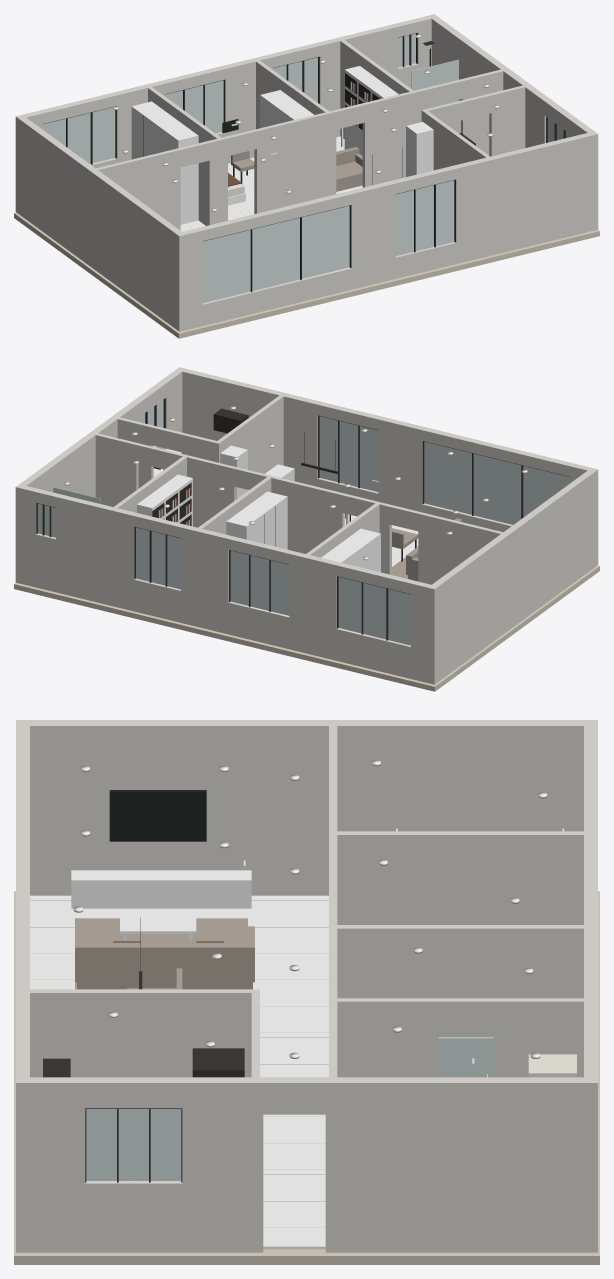
File: qimu-home.glb
The picture shows the model from 3 angles, top to bottom: view 1: azimuth 30°, elevation 25°; view 2: azimuth 150°, elevation 25°; view 3: azimuth 270°, elevation 25°; orthographic projection. The views are drawn at different scales.
Visible parts, largest first — view 1: W03, W01.006, WIN01 glazing, W05.004, foundation, W05.006, W01.003, J01, W05, WIN02 glazing, W01.001, W02.009 (+37 smaller); view 2: W03, W02.009, WIN01 glazing, W01.006, W02.006, W02.003, foundation, W01.003, WIN03 glazing, W05.004, WIN02 glazing, W05 (+40 smaller); view 3: W03, W04.005, W06, R07 floor, W07, W09, W08, W04.003, W04, foundation, W04.001, J05 (+19 smaller).
Boxes of the visible parts, bbox=[...] form: W03: bbox=[19, 117, 181, 328]; W01.006: bbox=[453, 131, 598, 263]; WIN01 glazing: bbox=[203, 206, 349, 302]; W05.004: bbox=[254, 110, 336, 213]; foundation: bbox=[14, 212, 599, 338]; W05.006: bbox=[362, 86, 435, 187]; W01.003: bbox=[348, 180, 395, 289]; J01: bbox=[131, 101, 198, 224]; W05: bbox=[96, 148, 180, 230]; WIN02 glazing: bbox=[395, 180, 454, 255]; W01.001: bbox=[203, 268, 351, 325]; W02.009: bbox=[316, 24, 397, 137]; W03: bbox=[432, 470, 594, 681]; W02.009: bbox=[56, 494, 137, 611]; WIN01 glazing: bbox=[424, 441, 570, 524]; W01.006: bbox=[176, 367, 320, 486]; W02.006: bbox=[181, 524, 231, 634]; W02.003: bbox=[289, 551, 339, 660]; foundation: bbox=[14, 565, 599, 691]; W01.003: bbox=[378, 416, 425, 512]; WIN03 glazing: bbox=[338, 577, 410, 645]; W05.004: bbox=[263, 474, 344, 553]; WIN02 glazing: bbox=[319, 416, 378, 491]; W05: bbox=[418, 512, 502, 584]; W03: bbox=[30, 720, 583, 895]; W04.005: bbox=[325, 1077, 583, 1252]; W06: bbox=[337, 831, 583, 924]; R07 floor: bbox=[260, 895, 328, 1249]; W07: bbox=[337, 925, 583, 998]; W09: bbox=[30, 989, 259, 1077]; W08: bbox=[337, 998, 583, 1077]; W04.003: bbox=[182, 1077, 263, 1252]; W04: bbox=[30, 1077, 85, 1252]; foundation: bbox=[14, 891, 599, 1264]; W04.001: bbox=[85, 1181, 182, 1252]; J05: bbox=[71, 870, 251, 908].
Size of the model in its own units: 12.46 by 2.88 by 8.46.
